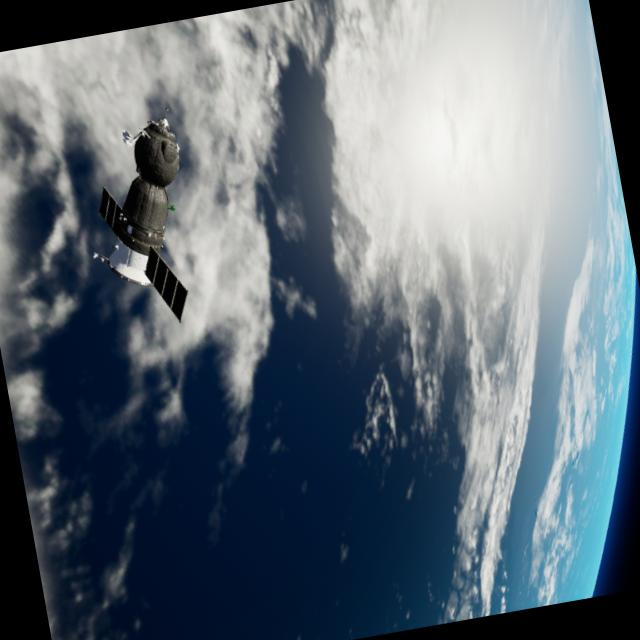Satellites revolving around earth: (68, 104, 212, 338)
